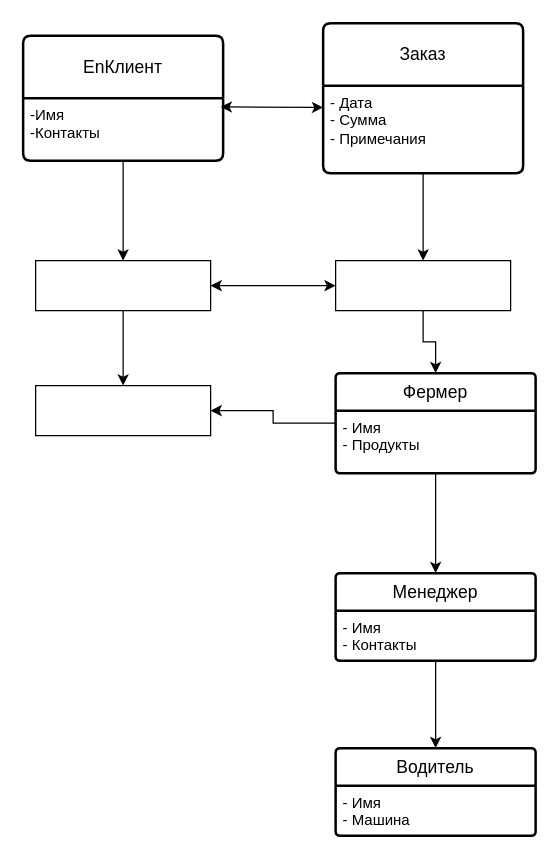
This 558x858 diagram has some shape labels left out. Here are the shapes that lost their labels. From the top down, the centre of each, then its label:
pixel 122 285: Обсуждение рецептов
pixel 422 285: Разделка мяса
pixel 122 410: Уведомление о доставке
